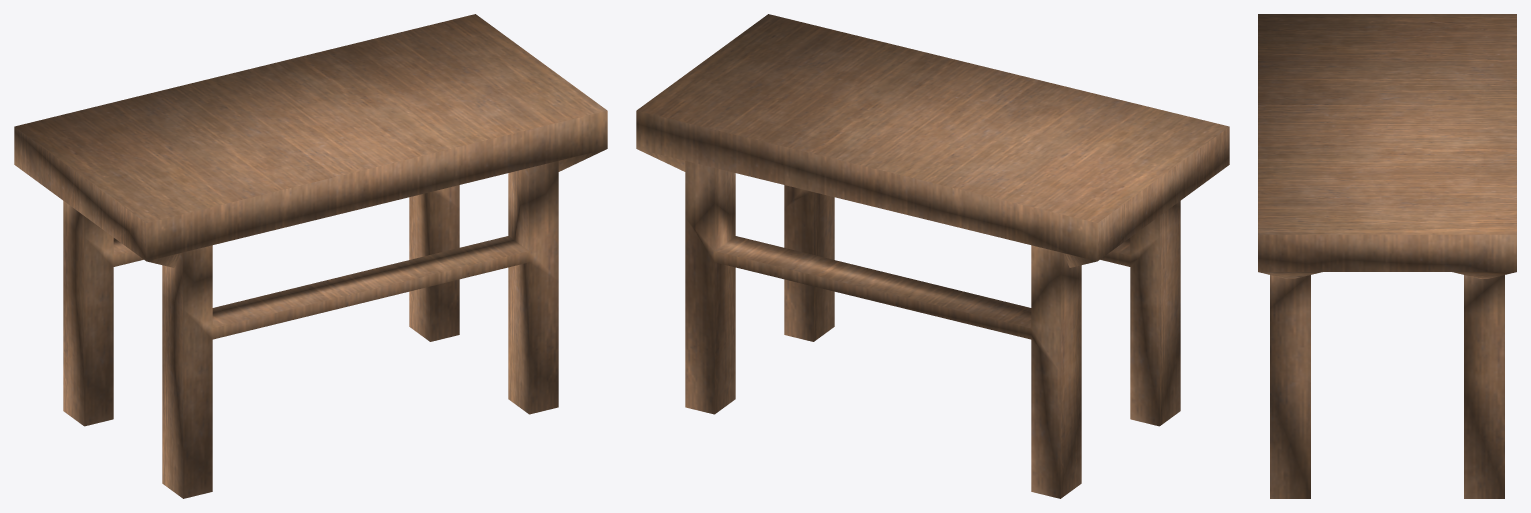
File: table1.obj
3 renders of one model, left to right at view 1: azimuth 30°, elevation 25°; view 2: azimuth 150°, elevation 25°; view 3: azimuth 270°, elevation 25°, orthographic. The views are drawn at different scales.
Visible parts, largest first — view 1: Cube.018; view 2: Cube.018; view 3: Cube.018.
Part boxes in pixels (bbox=[...]): Cube.018: bbox=[14, 14, 607, 498]; Cube.018: bbox=[636, 14, 1229, 498]; Cube.018: bbox=[1258, 14, 1516, 498].
Size of the model in its own units: 1.47 by 0.8857 by 0.7291.
Materials: 1 (1 with a texture image).
